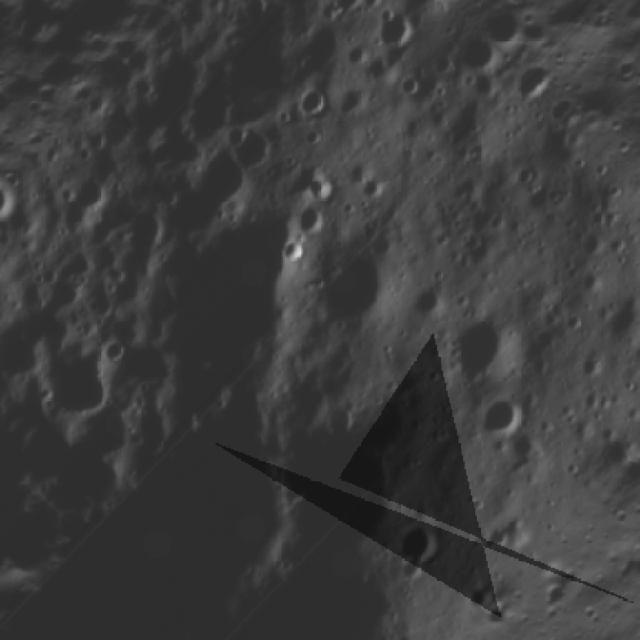crater: (296, 238, 415, 356), (420, 290, 537, 407), (374, 504, 471, 601), (462, 386, 535, 459), (586, 286, 640, 372), (363, 1, 425, 62), (445, 27, 506, 88), (285, 80, 337, 134), (267, 228, 318, 280), (350, 166, 401, 217), (282, 197, 332, 246), (326, 80, 374, 128), (333, 35, 381, 82), (385, 64, 433, 111), (93, 331, 135, 374)
